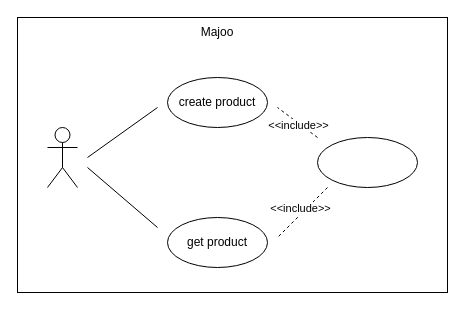
Some shapes in this 465 by 310 pixel diagram are drawn without their labels. Each missing label, with the box of its shape:
Admin: (46, 126, 78, 188)
Login: (316, 136, 418, 188)
